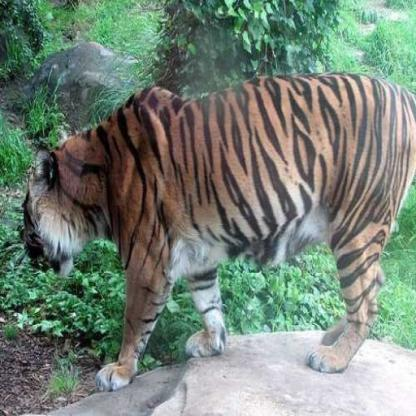Tiger: (15, 57, 415, 380)
